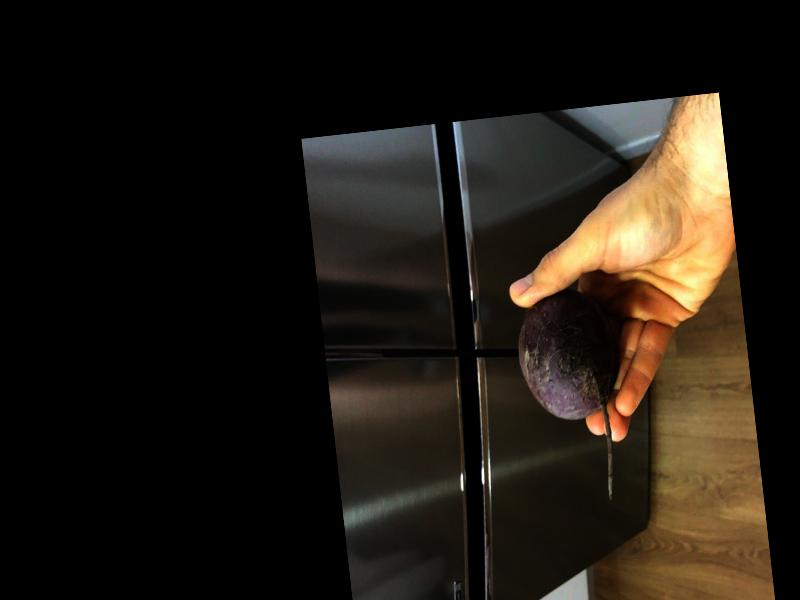Beet: (511, 286, 632, 509)
